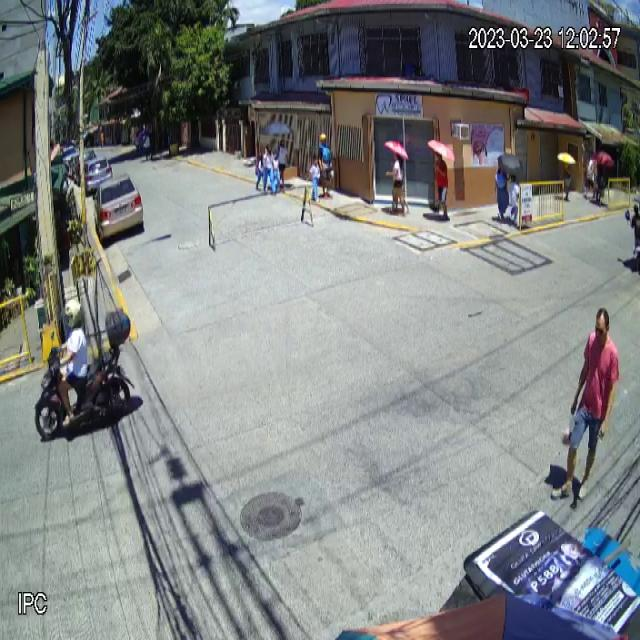Motorcycle: (33, 308, 135, 442)
